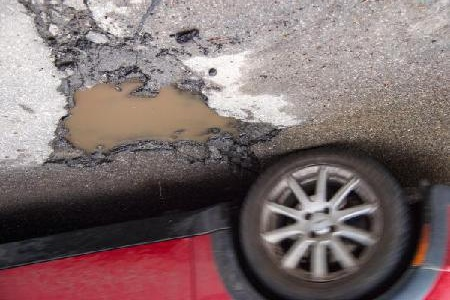pothole: (39, 75, 282, 170)
